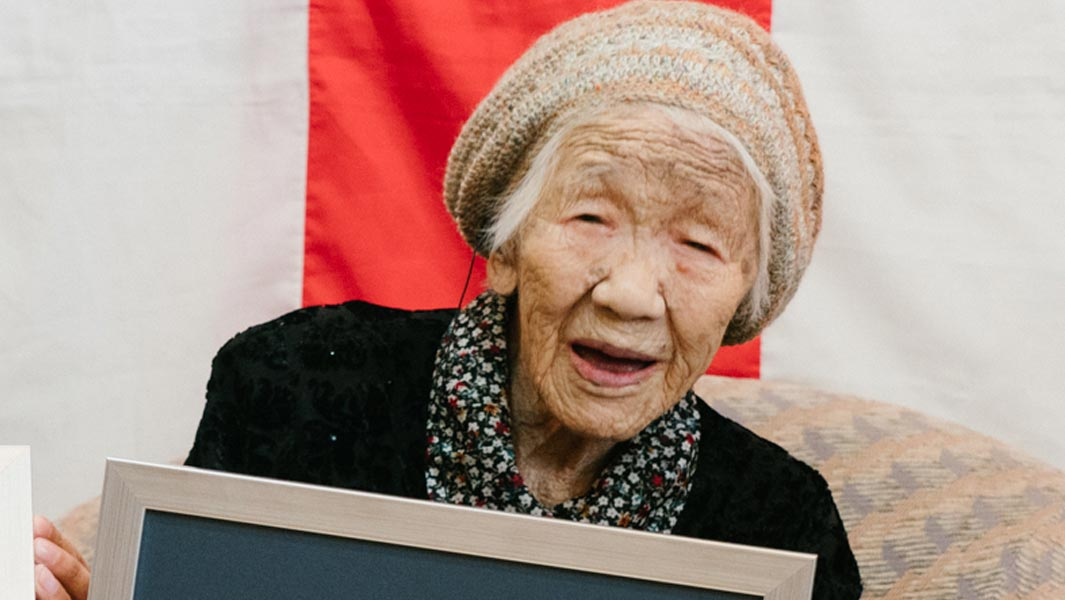person: (225, 4, 883, 513)
